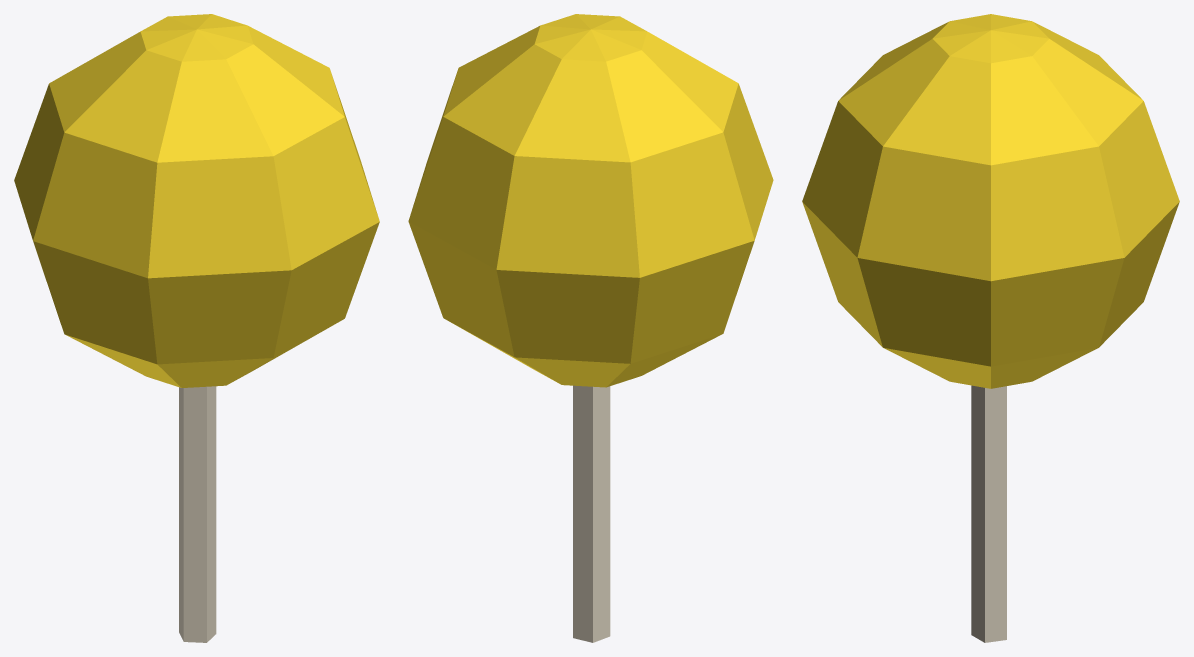
File: land_tree_toy_lollipop_yellow.glb
3 renders of one model, left to right at view 1: azimuth 30°, elevation 25°; view 2: azimuth 150°, elevation 25°; view 3: azimuth 270°, elevation 25°, orthographic.
Size of the model in its own units: 4.8 by 8.48 by 4.8.
